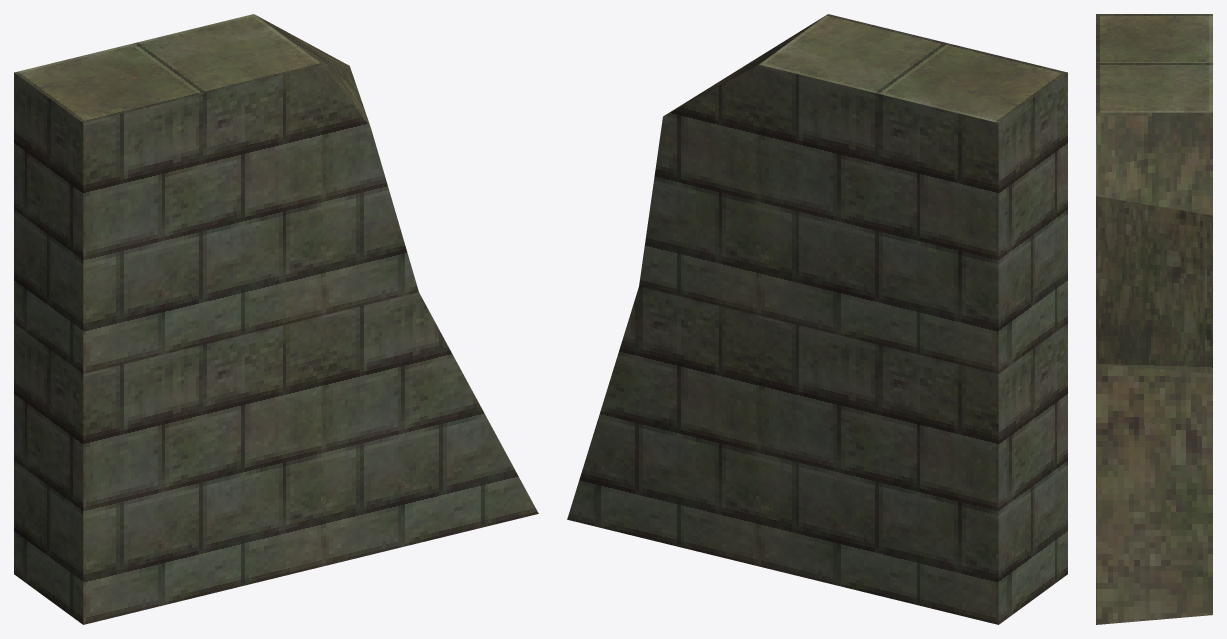
Rendered from wall_ruin.glb.
The picture shows the model from 3 angles, left to right: view 1: azimuth 30°, elevation 25°; view 2: azimuth 150°, elevation 25°; view 3: azimuth 270°, elevation 25°; orthographic projection. The views are drawn at different scales.
Parts seen in each view (by area): view 1: Cube.087; view 2: Cube.087; view 3: Cube.087.
Boxes of the visible parts, box(x1,y1,x2,y2) form: Cube.087: box(14, 14, 538, 624); Cube.087: box(567, 14, 1067, 624); Cube.087: box(1096, 14, 1212, 624).
Bounding box in the file's own units: 3.8 × 4 × 1.
1 material, 1 textured.
